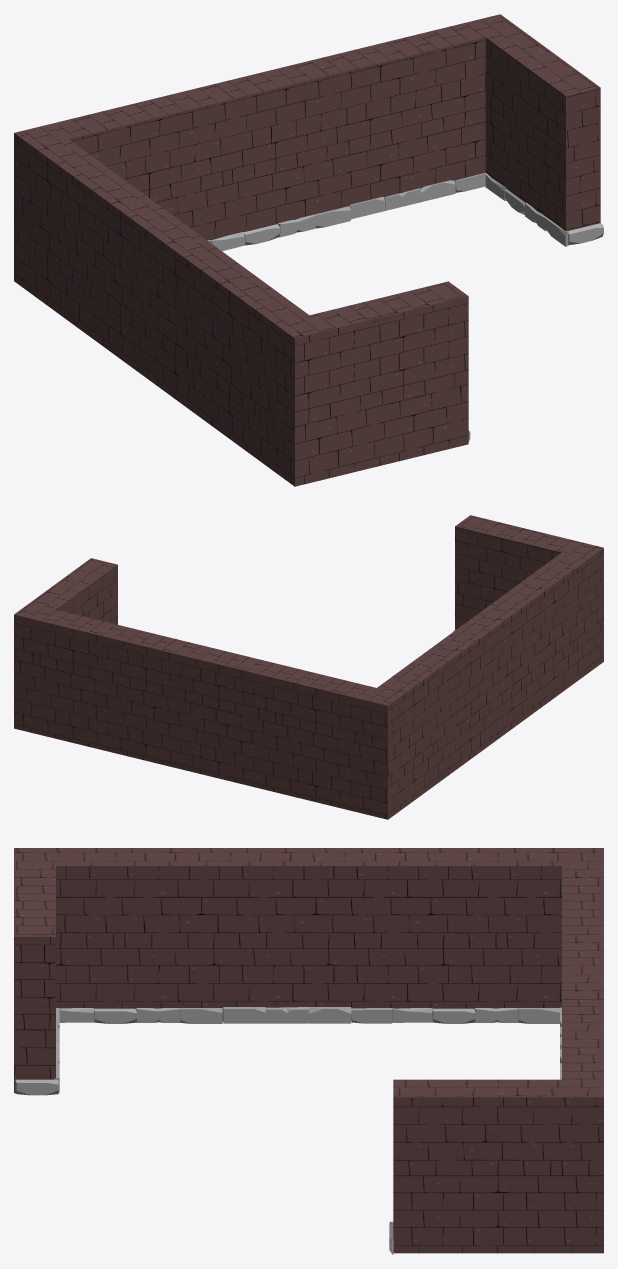
Rendered from MuriQ_wall.fbx.
The picture shows the model from 3 angles, top to bottom: view 1: azimuth 30°, elevation 25°; view 2: azimuth 150°, elevation 25°; view 3: azimuth 270°, elevation 25°; orthographic projection. The views are drawn at different scales.
Parts seen in each view (by area): view 1: Q_wall; view 2: Q_wall; view 3: Q_wall.
Boxes of the visible parts, x1,y1,x2,y2 form: Q_wall: (14,14,603,486); Q_wall: (14,515,603,819); Q_wall: (14,848,603,1254).
Bounding box in the file's own units: 1404 × 411 × 1400.
Materials: 2 (1 with a texture image).
